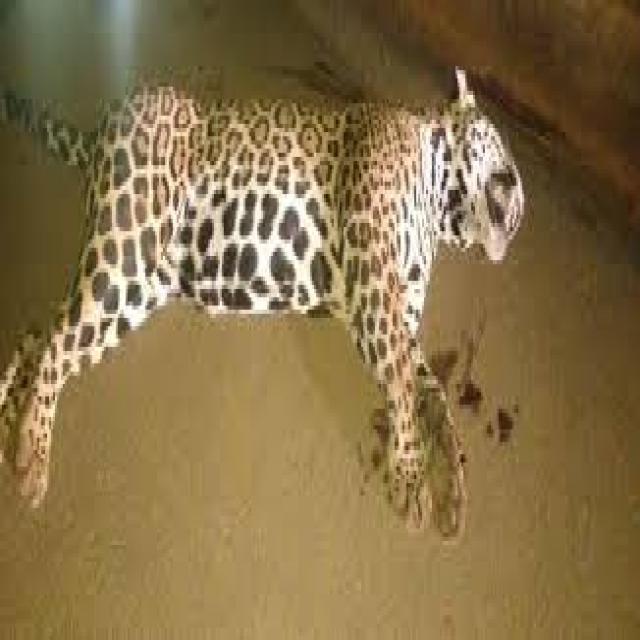Jaguar: (0, 58, 528, 549)
